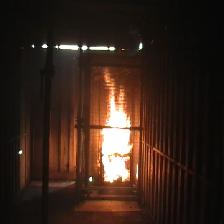fire: (96, 77, 135, 182)
